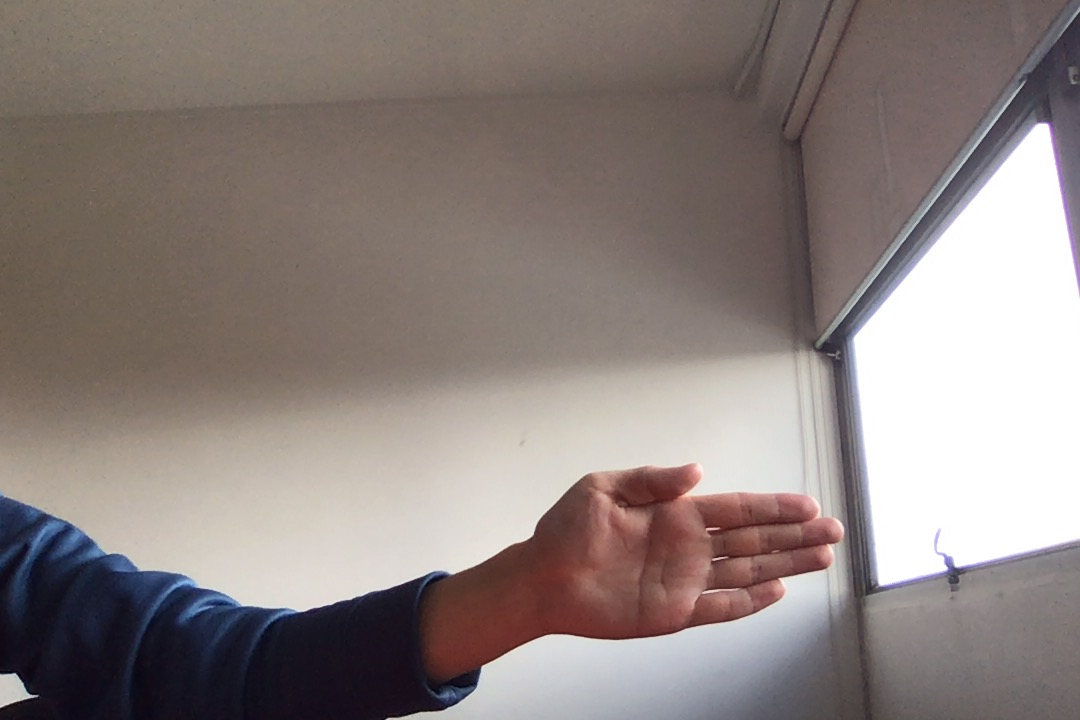palmhand: (534, 460, 848, 643)
